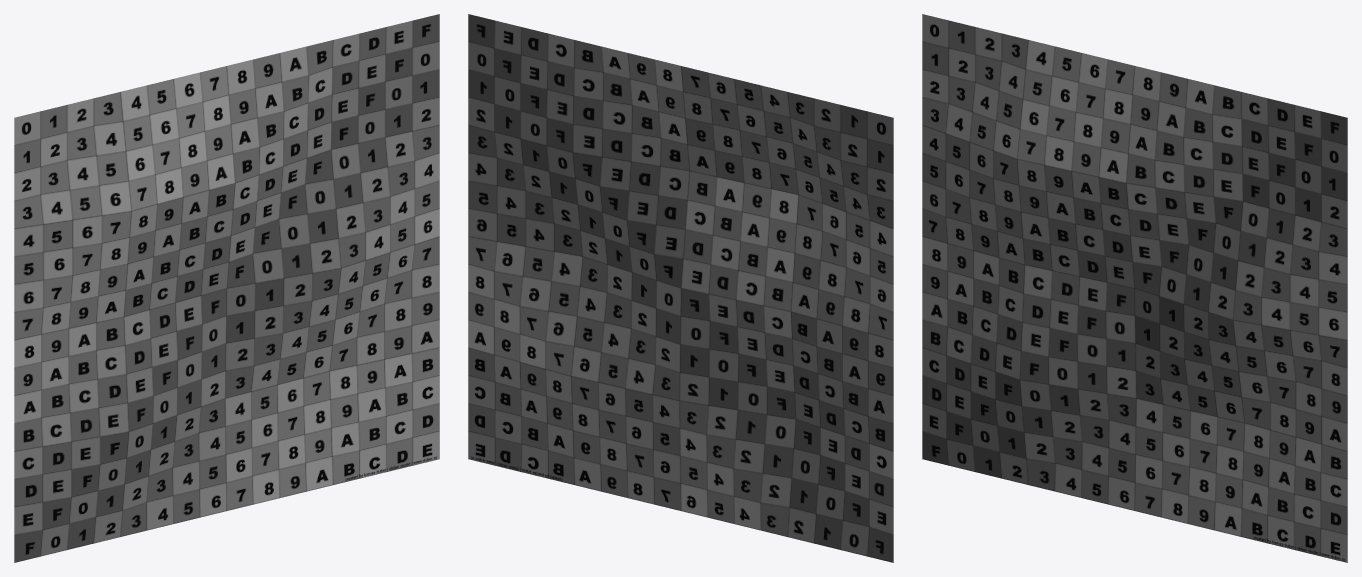
File: WallTile3.fbx
3 views of the same model, side by side, from view 1: azimuth 30°, elevation 25°; view 2: azimuth 150°, elevation 25°; view 3: azimuth 330°, elevation 25° (orthographic).
Visible parts, largest first — view 1: pPlane16; view 2: pPlane16; view 3: pPlane16.
Part boxes in pixels (x1,y1,x2,y2): pPlane16: [14, 14, 439, 562]; pPlane16: [468, 14, 893, 562]; pPlane16: [922, 14, 1347, 562].
Size of the model in its own units: 1 by 1 by 0.0598.
Materials: 1 (1 with a texture image).
